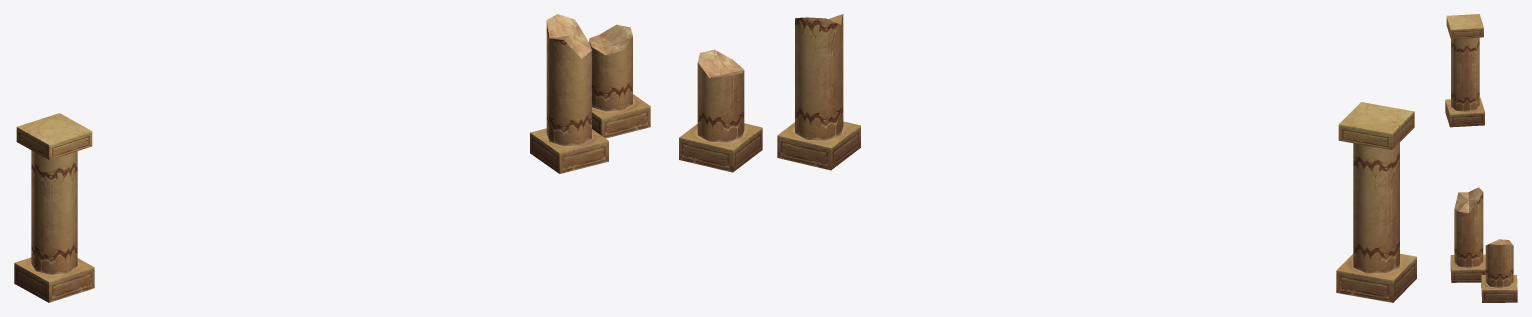
The model's file is Area_11_33.fbx.
3 renders of one model, left to right at view 1: azimuth 30°, elevation 25°; view 2: azimuth 150°, elevation 25°; view 3: azimuth 270°, elevation 25°, orthographic. The views are drawn at different scales.
Visible parts, largest first — view 1: Area_11_33; view 2: Area_11_33; view 3: Area_11_33.
Boxes of the visible parts, bbox=[...] form: Area_11_33: bbox=[14, 14, 650, 302]; Area_11_33: bbox=[679, 14, 1416, 302]; Area_11_33: bbox=[1445, 14, 1517, 302].
Bounding box in the file's own units: 1741 × 409 × 276.
